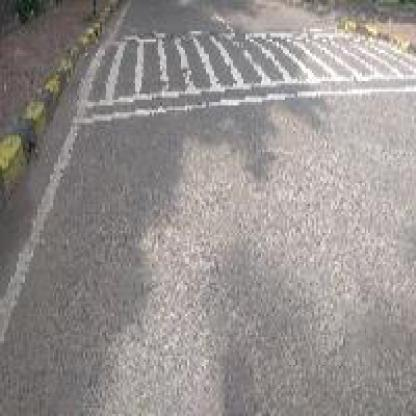Speed Bump: (73, 23, 412, 127)
